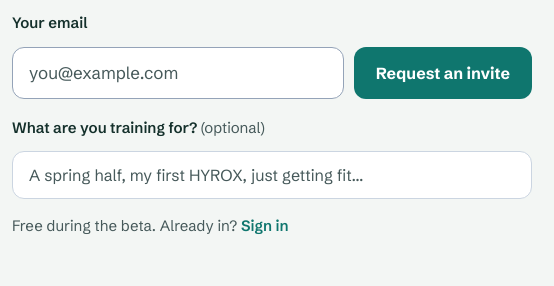
Scenario: errors › server 400 shows copy.md’s message and moves focus to it
Type "new@example.com" into the field labelled "Your email" at x=178, y=72, box left=12, top=46, right=344, bottom=98
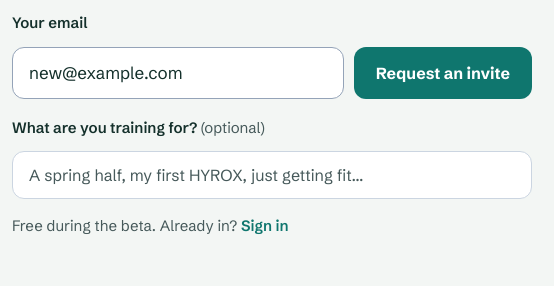
Click the button "Request an invite" at x=443, y=72, box left=354, top=46, right=532, bottom=98
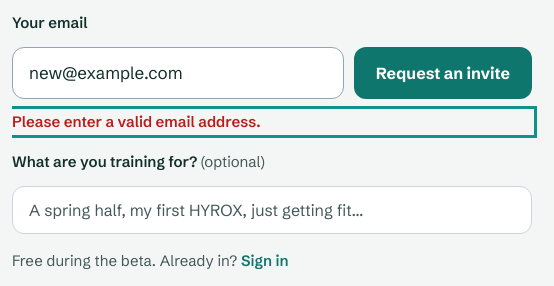
Result: the message reads "Please enter a valid email address." at left=12, top=112, right=261, bottom=130
